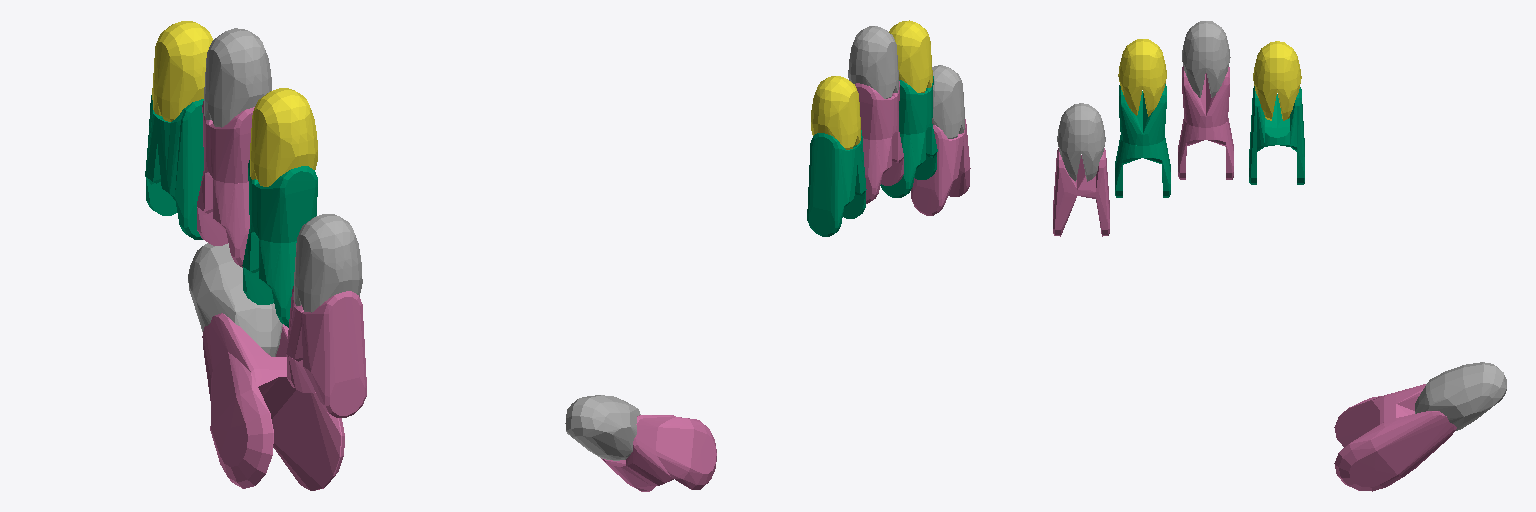
URDF robot description (svh):
<?xml version="1.0" encoding="utf-8"?>
<robot name="svh">
  <link name="base_link"/>
  <joint name="root_joint" type="fixed">
    <parent link="base_link"/>
    <child link="right_hand_base_link"/>
    <origin rpy="0 0 -1.57079" xyz="0 0 0"/>
  </joint>
  <link name="right_hand_base_link">
    <origin rpy="0 0 0" xyz="0 0 0"/>
    <visual>
      <origin rpy="0 0 0" xyz="0 0 -0.032"/>
      <geometry>
        <mesh filename="meshes/visual/base10.obj"/>
      </geometry>
    </visual>
    <collision>
      <origin rpy="0 0 0" xyz="0 0 -0.009"/>
      <geometry>
        <cylinder radius="0.045" length="0.045"/>
      </geometry>
    </collision>
  </link>
  <!-- LENGTH NOT FOUND IN DATASHEET! GUESSED!!! -->
  <link name="right_hand_e1">
    <visual>
      <origin rpy="0 0 0" xyz="0 0.01313 0"/>
      <geometry>
        <mesh filename="meshes/visual/h10.obj" scale="1 1 1"/>
      </geometry>
    </visual>
    <collision>
      <origin rpy="0 0 0" xyz="0 0.01313 0.013"/>
      <geometry>
        <box size="0.05 0.05 0.026"/>
      </geometry>
    </collision>
    <collision>
      <origin rpy="0 0 0" xyz="-0.00573 0.0035 0.05747"/>
      <geometry>
        <box size="0.0584 0.038 0.0641"/>
      </geometry>
    </collision>
    <collision>
      <origin rpy="0 0 0" xyz="-0.01 0.0035 0.096"/>
      <geometry>
        <box size="0.042 0.038 0.015"/>
      </geometry>
    </collision>
  </link>
  <!-- LENGTH NOT FOUND IN DATASHEET! GUESSED!!! -->
  <link name="right_hand_e2">
    <visual>
      <origin xyz="-0.0007 0 -0.01002"/>
      <geometry>
        <mesh filename="meshes/visual/h11.obj" scale="1 1 1"/>
      </geometry>
    </visual>
    <collision>
      <origin rpy="0 0 0" xyz="0.016 0 0.02"/>
      <geometry>
        <box size="0.0246 0.035 0.0564"/>
      </geometry>
    </collision>
    <collision>
      <origin rpy="0 0 0" xyz="0.0032 -0.0083 0.048"/>
      <geometry>
        <box size="0.012 0.018 0.021"/>
      </geometry>
    </collision>
  </link>
  <!-- THUMB LINKS -->
  <link name="right_hand_z">
    <visual>
      <origin xyz="0 0 0.02442"/>
      <geometry>
        <mesh filename="meshes/visual/d10.obj" scale="1 1 1"/>
      </geometry>
    </visual>
    <collision>
      <origin xyz="0 0 0.02842"/>
      <geometry>
        <box size="0.024 0.0188 0.008"/>
      </geometry>
    </collision>
    <collision>
      <origin xyz="0.0125 0.0 0.04292"/>
      <geometry>
        <box size="0.006 0.024 0.033"/>
      </geometry>
    </collision>
    <collision>
      <origin xyz="-0.0125 0.0 0.04292"/>
      <geometry>
        <box size="0.006 0.024 0.033"/>
      </geometry>
    </collision>
  </link>
  <link name="right_hand_a">
    <visual>
      <geometry>
        <mesh filename="meshes/visual/d11.obj" scale="1 1 1"/>
      </geometry>
    </visual>
    <collision>
      <geometry>
        <mesh filename="meshes/collision/d11.obj" scale="1 1 1"/>
      </geometry>
    </collision>
  </link>
  <link name="right_hand_b">
    <visual>
      <geometry>
        <mesh filename="meshes/visual/d12.obj" scale="1 1 1"/>
      </geometry>
    </visual>
    <collision>
      <geometry>
        <mesh filename="meshes/collision/d12.obj" scale="1 1 1"/>
      </geometry>
    </collision>
  </link>
  <link name="right_hand_c">
    <inertial>
      <origin rpy="0 0 0" xyz="0.007 0.000 0.000"/>
      <mass value="0.02"/>
      <inertia ixx="1e-5" ixy="0.0" ixz="0.0" iyy="2e-5" iyz="0.0" izz="2e-5"/>
    </inertial>
    <visual>
      <geometry>
        <mesh filename="meshes/visual/d13.obj" scale="1 1 1"/>
      </geometry>
    </visual>
    <collision>
      <geometry>
        <mesh filename="meshes/collision/d13.obj" scale="1 1 1"/>
      </geometry>
    </collision>
  </link>
  <!-- INDEX FINGER LINKS -->
  <link name="right_hand_virtual_l">
    <visual>
      <origin xyz="0 0 0.01321"/>
      <geometry>
        <mesh filename="meshes/visual/f10_f20.obj"/>
      </geometry>
    </visual>
    <collision>
      <origin xyz="0 0 0.00121"/>
      <geometry>
        <sphere radius="0.01"/>
      </geometry>
    </collision>
  </link>
  <link name="right_hand_l">
    <visual>
      <geometry>
        <mesh filename="meshes/visual/f11.obj"/>
      </geometry>
    </visual>
    <collision>
      <geometry>
        <mesh filename="meshes/collision/f11.obj" scale="1 1 1"/>
      </geometry>
    </collision>
  </link>
  <link name="right_hand_p">
    <inertial>
      <origin rpy="0 0 0" xyz="0.01 0.000 0.000"/>
      <mass value="0.024"/>
      <inertia ixx="9e-7" ixy="0.0" ixz="0.0" iyy="3e-6" iyz="0.0" izz="2e-6"/>
    </inertial>
    <visual>
      <geometry>
        <mesh filename="meshes/visual/f12.obj"/>
      </geometry>
    </visual>
    <collision>
      <geometry>
        <mesh filename="meshes/collision/f12.obj"/>
      </geometry>
    </collision>
  </link>
  <link name="right_hand_t">
    <inertial>
      <origin rpy="0 0 0" xyz="0.007 0.000 0.000"/>
      <mass value="0.02"/>
      <inertia ixx="1e-5" ixy="0.0" ixz="0.0" iyy="2e-5" iyz="0.0" izz="2e-5"/>
    </inertial>
    <visual>
      <geometry>
        <mesh filename="meshes/visual/finger_tip.obj"/>
      </geometry>
    </visual>
    <collision>
      <geometry>
        <mesh filename="meshes/collision/finger_tip.obj" scale="1 1 1"/>
      </geometry>
    </collision>
  </link>
  <!-- MIDDLE FINGER LINKS -->
  <link name="right_hand_virtual_k">
    <visual>
      <origin xyz="0 0 0.01321"/>
      <geometry>
        <mesh filename="meshes/visual/f10_f20.obj"/>
      </geometry>
    </visual>
    <collision>
      <origin xyz="0 0 0.00321"/>
      <geometry>
        <sphere radius="0.01"/>
      </geometry>
    </collision>
  </link>
  <link name="right_hand_k">
    <visual>
      <geometry>
        <mesh filename="meshes/visual/f21.obj"/>
      </geometry>
    </visual>
    <collision>
      <geometry>
        <mesh filename="meshes/collision/f21.obj" scale="1 1 1"/>
      </geometry>
    </collision>
  </link>
  <link name="right_hand_o">
    <visual>
      <geometry>
        <mesh filename="meshes/visual/f22_f32.obj"/>
      </geometry>
    </visual>
    <collision>
      <geometry>
        <mesh filename="meshes/collision/f22_f32.obj" scale="1 1 1"/>
      </geometry>
    </collision>
  </link>
  <link name="right_hand_s">
    <inertial>
      <origin rpy="0 0 0" xyz="0.007 0.000 0.000"/>
      <mass value="0.02"/>
      <inertia ixx="1e-5" ixy="0.0" ixz="0.0" iyy="2e-5" iyz="0.0" izz="2e-5"/>
    </inertial>
    <visual>
      <geometry>
        <mesh filename="meshes/visual/finger_tip.obj"/>
      </geometry>
    </visual>
    <collision>
      <geometry>
        <mesh filename="meshes/collision/finger_tip.obj" scale="1 1 1"/>
      </geometry>
    </collision>
  </link>
  <!-- RING FINGER LINKS -->
  <link name="right_hand_virtual_j">
    <visual>
      <origin xyz="0 0 -0.01321"/>
      <geometry>
        <mesh filename="meshes/visual/f30_f40.obj"/>
      </geometry>
    </visual>
    <collision>
      <origin xyz="0 0 -0.00321"/>
      <geometry>
        <sphere radius="0.01"/>
      </geometry>
    </collision>
  </link>
  <link name="right_hand_j">
    <visual>
      <geometry>
        <mesh filename="meshes/visual/f31.obj"/>
      </geometry>
    </visual>
    <collision>
      <geometry>
        <mesh filename="meshes/collision/f31.obj" scale="1 1 1"/>
      </geometry>
    </collision>
  </link>
  <link name="right_hand_n">
    <visual>
      <geometry>
        <mesh filename="meshes/visual/f22_f32.obj"/>
      </geometry>
    </visual>
    <collision>
      <geometry>
        <mesh filename="meshes/collision/f22_f32.obj" scale="1 1 1"/>
      </geometry>
    </collision>
  </link>
  <link name="right_hand_r">
    <inertial>
      <origin rpy="0 0 0" xyz="0.007 0.000 0.000"/>
      <mass value="0.02"/>
      <inertia ixx="1e-5" ixy="0.0" ixz="0.0" iyy="2e-5" iyz="0.0" izz="2e-5"/>
    </inertial>
    <visual>
      <geometry>
        <mesh filename="meshes/visual/finger_tip.obj"/>
      </geometry>
    </visual>
    <collision>
      <geometry>
        <mesh filename="meshes/collision/finger_tip.obj" scale="1 1 1"/>
      </geometry>
    </collision>
  </link>
  <!-- LITTLE FINGER LINKS -->
  <link name="right_hand_virtual_i">
    <visual>
      <origin xyz="0 0 -0.01321"/>
      <geometry>
        <mesh filename="meshes/visual/f30_f40.obj"/>
      </geometry>
    </visual>
    <collision>
      <origin xyz="0 0 -0.00321"/>
      <geometry>
        <sphere radius="0.01"/>
      </geometry>
    </collision>
  </link>
  <link name="right_hand_i">
    <visual>
      <geometry>
        <mesh filename="meshes/visual/f41.obj"/>
      </geometry>
    </visual>
    <collision>
      <geometry>
        <mesh filename="meshes/collision/f41.obj"/>
      </geometry>
    </collision>
  </link>
  <link name="right_hand_m">
    <inertial>
      <origin rpy="0 0 0" xyz="0.007 0.000 0.000"/>
      <mass value="0.02"/>
      <inertia ixx="8e-7" ixy="0.0" ixz="0.0" iyy="2e-6" iyz="0.0" izz="2e-6"/>
    </inertial>
    <visual>
      <geometry>
        <mesh filename="meshes/visual/f42.obj"/>
      </geometry>
    </visual>
    <collision>
      <geometry>
        <mesh filename="meshes/collision/f42.obj"/>
      </geometry>
    </collision>
  </link>
  <link name="right_hand_q">
    <inertial>
      <origin rpy="0 0 0" xyz="0.007 0.000 0.000"/>
      <mass value="0.02"/>
      <inertia ixx="1e-5" ixy="0.0" ixz="0.0" iyy="2e-5" iyz="0.0" izz="2e-5"/>
    </inertial>
    <visual>
      <geometry>
        <mesh filename="meshes/visual/finger_tip.obj"/>
      </geometry>
    </visual>
    <collision>
      <geometry>
        <mesh filename="meshes/collision/finger_tip.obj"/>
      </geometry>
    </collision>
  </link>
  <joint name="right_hand_Thumb_Flexion" type="revolute">
    <parent link="right_hand_z"/>
    <child link="right_hand_a"/>
    <limit effort="1000.0" lower="0.0" upper="0.9704" velocity="1"/>
    <origin rpy="1.57079 -0.6004 1.57079" xyz="0 0 0.04596"/>
    <axis xyz="0 0 1"/>
  </joint>
  <!-- BASE_LINE JOINTS -->
  <joint name="right_hand_Thumb_Opposition" type="revolute">
    <parent link="right_hand_e1"/>
    <child link="right_hand_z"/>
    <limit effort="1000.0" lower="0.0" upper="0.9879" velocity="1"/>
    <origin rpy="0 0.2618 1.571" xyz="-0.0169 0.02626 0"/>
    <axis xyz="0 0 -1"/>
  </joint>
  <joint name="right_hand_f4" type="fixed">
    <parent link="right_hand_base_link"/>
    <child link="right_hand_e1"/>
    <origin rpy="0 0 0" xyz="0 -0.01313 0"/>
  </joint>
  <joint name="right_hand_j5" type="revolute">
    <parent link="right_hand_e1"/>
    <child link="right_hand_e2"/>
    <limit effort="1000.0" lower="0.0" upper="0.98786" velocity="1"/>
    <origin rpy="0 0 0" xyz="0.0184 0.006 0.0375"/>
    <axis xyz="0 0 1"/>
    <mimic joint="right_hand_Thumb_Opposition" multiplier="1" offset="0"/>
  </joint>
  <!-- THUMB JOINTS -->
  <joint name="right_hand_j3" type="revolute">
    <parent link="right_hand_a"/>
    <child link="right_hand_b"/>
    <limit effort="1000.0" lower="0.0" upper="0.98506" velocity="1"/>
    <origin rpy="0 0 0" xyz="0.0485 0 0"/>
    <axis xyz="0 0 1"/>
    <mimic joint="right_hand_Thumb_Flexion" multiplier="1.01511" offset="0"/>
  </joint>
  <joint name="right_hand_j4" type="revolute">
    <parent link="right_hand_b"/>
    <child link="right_hand_c"/>
    <limit effort="1000.0" lower="0.0" upper="1.406" velocity="1"/>
    <origin rpy="0 0 0" xyz="0.030 0 0"/>
    <axis xyz="0 0 1"/>
    <mimic joint="right_hand_Thumb_Flexion" multiplier="1.44889" offset="0"/>
  </joint>
  <!-- INDEX FINGER JOINTS -->
  <joint name="right_hand_Index_Finger_Distal" type="revolute">
    <parent link="right_hand_l"/>
    <child link="right_hand_p"/>
    <limit effort="1000.0" lower="0" upper="1.334" velocity="1"/>
    <origin rpy="0 0 0" xyz="0.04804 0 0"/>
    <axis xyz="0 0 1"/>
  </joint>
  <joint name="right_hand_Index_Finger_Proximal" type="revolute">
    <parent link="right_hand_virtual_l"/>
    <child link="right_hand_l"/>
    <limit effort="1000.0" lower="0.0" upper="0.79849" velocity="1"/>
    <origin rpy="-1.5707 0 0" xyz="0 0 0"/>
    <axis xyz="0 0 1"/>
  </joint>
  <!-- JOINT Finger_Spread in BASE_LINE section for better UX -->
  <joint name="right_hand_j14" type="revolute">
    <parent link="right_hand_p"/>
    <child link="right_hand_t"/>
    <limit effort="1000.0" lower="0" upper="1.394" velocity="1"/>
    <origin rpy="0 0 0" xyz="0.026 0 0"/>
    <axis xyz="0 0 1"/>
    <mimic joint="right_hand_Index_Finger_Distal" multiplier="1.0450" offset="0"/>
  </joint>
  <!-- MIDDLE FINGER JOINTS -->
  <joint name="right_hand_Middle_Finger_Proximal" type="revolute">
    <parent link="right_hand_virtual_k"/>
    <child link="right_hand_k"/>
    <limit effort="1000.0" lower="0.0" upper="0.79849" velocity="1"/>
    <origin rpy="-1.5707 0 0" xyz="0 0 0"/>
    <axis xyz="0 0 1"/>
  </joint>
  <joint name="right_hand_Middle_Finger_Distal" type="revolute">
    <parent link="right_hand_k"/>
    <child link="right_hand_o"/>
    <limit effort="1000.0" lower="0" upper="1.334" velocity="1"/>
    <origin rpy="0 0 0" xyz="0.05004 0 0"/>
    <axis xyz="0 0 1"/>
  </joint>
  <joint name="right_hand_j15" type="revolute">
    <parent link="right_hand_o"/>
    <child link="right_hand_s"/>
    <limit effort="1000.0" lower="0" upper="1.334" velocity="1"/>
    <origin rpy="0 0 0" xyz="0.032 0 0"/>
    <axis xyz="0 0 1"/>
    <mimic joint="right_hand_Middle_Finger_Distal" multiplier="1.0454" offset="0"/>
  </joint>
  <!-- RING FINGER JOINTS -->
  <joint name="right_hand_Ring_Finger" type="revolute">
    <parent link="right_hand_virtual_j"/>
    <child link="right_hand_j"/>
    <limit effort="1000.0" lower="0.0" upper="0.98175" velocity="1"/>
    <origin rpy="1.5707 0 0" xyz="0 0 0"/>
    <axis xyz="0 0 1"/>
  </joint>
  <joint name="right_hand_j12" type="revolute">
    <parent link="right_hand_j"/>
    <child link="right_hand_n"/>
    <limit effort="1000.0" lower="0" upper="1.334" velocity="1"/>
    <origin rpy="0 0 0" xyz="0.05004 0 0"/>
    <axis xyz="0 0 1"/>
    <mimic joint="right_hand_Ring_Finger" multiplier="1.3588" offset="0"/>
  </joint>
  <joint name="right_hand_j16" type="revolute">
    <parent link="right_hand_n"/>
    <child link="right_hand_r"/>
    <limit effort="1000.0" lower="0" upper="1.395" velocity="1"/>
    <origin rpy="0 0 0" xyz="0.032 0 0"/>
    <axis xyz="0 0 1"/>
    <mimic joint="right_hand_Ring_Finger" multiplier="1.42093" offset="0"/>
  </joint>
  <!-- PINKY JOINTS -->
  <joint name="right_hand_Pinky" type="revolute">
    <parent link="right_hand_virtual_i"/>
    <child link="right_hand_i"/>
    <limit effort="1000.0" lower="0.0" upper="0.98175" velocity="1"/>
    <origin rpy="1.5707 0 0" xyz="0 0 0"/>
    <axis xyz="0 0 1"/>
  </joint>
  <joint name="right_hand_j13" type="revolute">
    <parent link="right_hand_i"/>
    <child link="right_hand_m"/>
    <limit effort="1000.0" lower="0" upper="1.334" velocity="1"/>
    <origin rpy="0 0 0" xyz="0.04454 0 0"/>
    <axis xyz="0 0 1"/>
    <mimic joint="right_hand_Pinky" multiplier="1.35880" offset="0"/>
  </joint>
  <joint name="right_hand_j17" type="revolute">
    <parent link="right_hand_m"/>
    <child link="right_hand_q"/>
    <limit effort="1000.0" lower="0" upper="1.3971" velocity="1"/>
    <origin rpy="0 0 0" xyz="0.022 0 0"/>
    <axis xyz="0 0 1"/>
    <mimic joint="right_hand_Pinky" multiplier="1.42307" offset="0"/>
  </joint>
  <joint name="right_hand_index_spread" type="revolute">
    <parent link="right_hand_e1"/>
    <child link="right_hand_virtual_l"/>
    <limit effort="1000.0" lower="0.0" upper="0.28833" velocity="1"/>
    <origin rpy="0 -1.5707 1.5707" xyz="-0.025 0 0.110"/>
    <axis xyz="0 0 1"/>
    <mimic joint="right_hand_Finger_Spread" multiplier="0.5" offset="0"/>
  </joint>
  <joint name="right_hand_middle_spread_dummy" type="fixed">
    <parent link="right_hand_e1"/>
    <child link="right_hand_virtual_k"/>
    <origin rpy="0 -1.5707 1.5707" xyz="0 0 0.110"/>
  </joint>
  <joint name="right_hand_ring_spread" type="revolute">
    <parent link="right_hand_e2"/>
    <child link="right_hand_virtual_j"/>
    <limit effort="1000.0" lower="0.0" upper="0.28833" velocity="1"/>
    <origin rpy="-1.5707 -1.5707 0" xyz="0.003855 -0.006 0.0655"/>
    <axis xyz="0 0 1"/>
    <mimic joint="right_hand_Finger_Spread" multiplier="0.5" offset="0"/>
  </joint>
  <joint name="right_hand_Finger_Spread" type="revolute">
    <parent link="right_hand_e2"/>
    <child link="right_hand_virtual_i"/>
    <limit effort="1000.0" lower="0.0" upper="0.5829" velocity="1"/>
    <origin rpy="-1.5707 -1.5707 0" xyz="0.025355 -0.006 0.056"/>
    <axis xyz="0 0 1"/>
  </joint>

  <link name="thtip"/>
  <link name="fftip"/>
  <link name="mftip"/>
  <link name="rftip"/>
  <link name="lftip"/>
  <joint name="thtip_joint" type="fixed">
    <parent link="right_hand_c"/>
    <child link="thtip"/>
    <origin rpy="0.00000 -0.00000 0.00000" xyz="0.0275 0.000 0.000"/>
  </joint>
  <joint name="fftip_joint" type="fixed">
    <parent link="right_hand_t"/>
    <child link="fftip"/>
    <origin rpy="0.00000 -0.00000 0.00000" xyz="0.014 0.000 0.000"/>
  </joint>
  <joint name="mftip_joint" type="fixed">
    <parent link="right_hand_s"/>
    <child link="mftip"/>
    <origin rpy="0.00000 -0.00000 0.00000" xyz="0.014 0.000 0.000"/>
  </joint>
  <joint name="rftip_joint" type="fixed">
    <parent link="right_hand_r"/>
    <child link="rftip"/>
    <origin rpy="0.00000 -0.00000 0.00000" xyz="0.014 0.000 0.000"/>
  </joint>
  <joint name="lftip_joint" type="fixed">
    <parent link="right_hand_q"/>
    <child link="lftip"/>
    <origin rpy="0.00000 -0.00000 0.00000" xyz="0.014 0.000 0.000"/>
  </joint>
</robot>

--- What the picture shows (computed from the rendered views, not written in the file) ---
The picture shows the robot from 3 angles, left to right: view 1: azimuth 30°, elevation 25°; view 2: azimuth 150°, elevation 25°; view 3: azimuth 270°, elevation 25°; orthographic projection.
Robot: svh — 29 links, 28 joints (20 revolute, 8 fixed); root link base_link; default pose: all joints at 0.
Visible links, largest first — view 1: right_hand_b, right_hand_m, right_hand_n, right_hand_o, right_hand_p, right_hand_r, right_hand_q, right_hand_c, right_hand_s, right_hand_t; view 2: right_hand_b, right_hand_p, right_hand_o, right_hand_c, right_hand_n, right_hand_m, right_hand_t, right_hand_s, right_hand_r, right_hand_q; view 3: right_hand_b, right_hand_c, right_hand_n, right_hand_o, right_hand_t, right_hand_q, right_hand_p, right_hand_r, right_hand_s, right_hand_m.
Boxes of the visible links, left/top/right/bottom form: right_hand_b: left=202, top=313, right=344, bottom=490; right_hand_m: left=286, top=286, right=366, bottom=417; right_hand_n: left=242, top=160, right=317, bottom=327; right_hand_o: left=197, top=101, right=254, bottom=267; right_hand_p: left=145, top=95, right=203, bottom=239; right_hand_r: left=250, top=88, right=317, bottom=186; right_hand_q: left=294, top=214, right=362, bottom=312; right_hand_c: left=188, top=243, right=282, bottom=356; right_hand_s: left=204, top=28, right=271, bottom=127; right_hand_t: left=152, top=21, right=212, bottom=121; right_hand_b: left=601, top=415, right=716, bottom=491; right_hand_p: left=807, top=130, right=866, bottom=236; right_hand_o: left=855, top=81, right=903, bottom=203; right_hand_c: left=565, top=395, right=640, bottom=460; right_hand_n: left=880, top=76, right=937, bottom=197; right_hand_m: left=911, top=119, right=970, bottom=215; right_hand_t: left=811, top=76, right=860, bottom=149; right_hand_s: left=848, top=26, right=898, bottom=98; right_hand_r: left=889, top=20, right=932, bottom=92; right_hand_q: left=932, top=65, right=964, bottom=138; right_hand_b: left=1334, top=384, right=1456, bottom=491; right_hand_c: left=1415, top=362, right=1506, bottom=430; right_hand_n: left=1115, top=84, right=1170, bottom=197; right_hand_o: left=1178, top=66, right=1233, bottom=179; right_hand_t: left=1253, top=41, right=1301, bottom=120; right_hand_q: left=1057, top=103, right=1105, bottom=181; right_hand_p: left=1249, top=86, right=1304, bottom=184; right_hand_r: left=1118, top=39, right=1166, bottom=116; right_hand_s: left=1182, top=21, right=1230, bottom=97; right_hand_m: left=1053, top=148, right=1109, bottom=236.
Bounding box of the posed robot: 0.0698 × 0.1593 × 0.1576 m (x, y, z).
10 mesh visuals loaded from 17 distinct referenced files (6 OBJ); not drawn: 13 (reference not matched to a file when rendering).